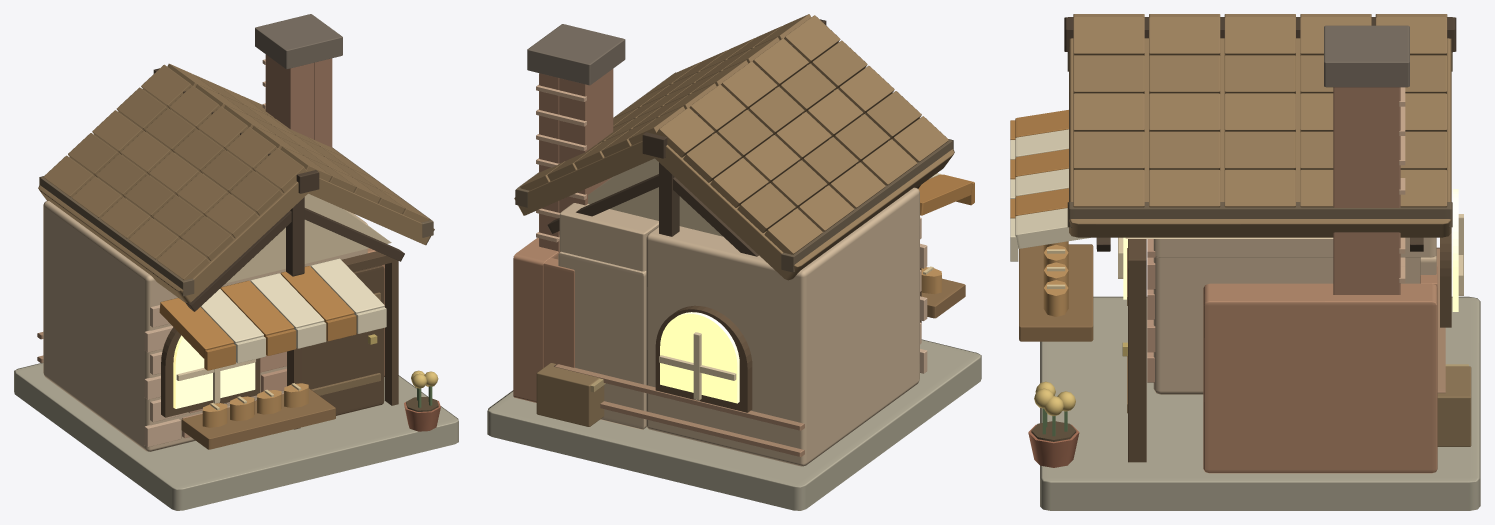
Rendered from bakery-1.glb.
3 views of the same model, side by side, from view 1: azimuth 30°, elevation 25°; view 2: azimuth 150°, elevation 25°; view 3: azimuth 270°, elevation 25° (orthographic). The views are drawn at different scales.
Parts seen in each view (by area): view 1: bakery-1-0, door-hinge; view 2: bakery-1-0; view 3: bakery-1-0.
Boxes of the visible parts, x1,y1,x2,y2 form: bakery-1-0: (14, 14, 458, 510); door-hinge: (300, 265, 384, 415); bakery-1-0: (487, 14, 981, 510); bakery-1-0: (1010, 14, 1480, 510).
Bounding box in the file's own units: 1.9 × 2.1 × 2.03.
